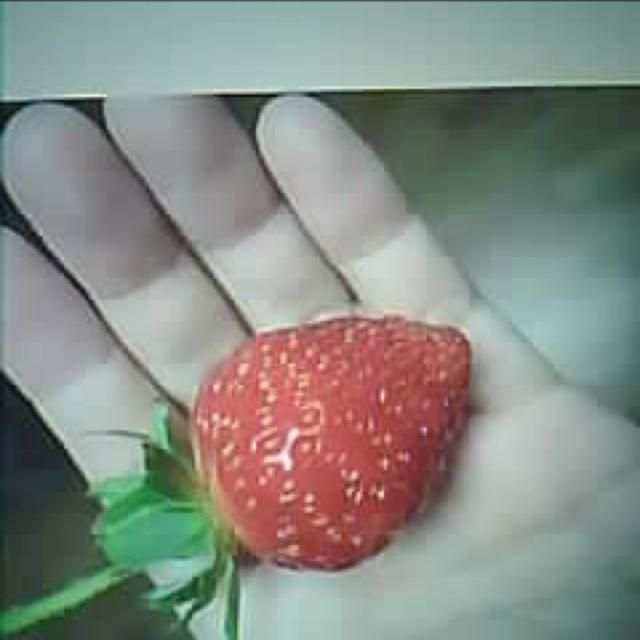ripe: (190, 314, 467, 572)
